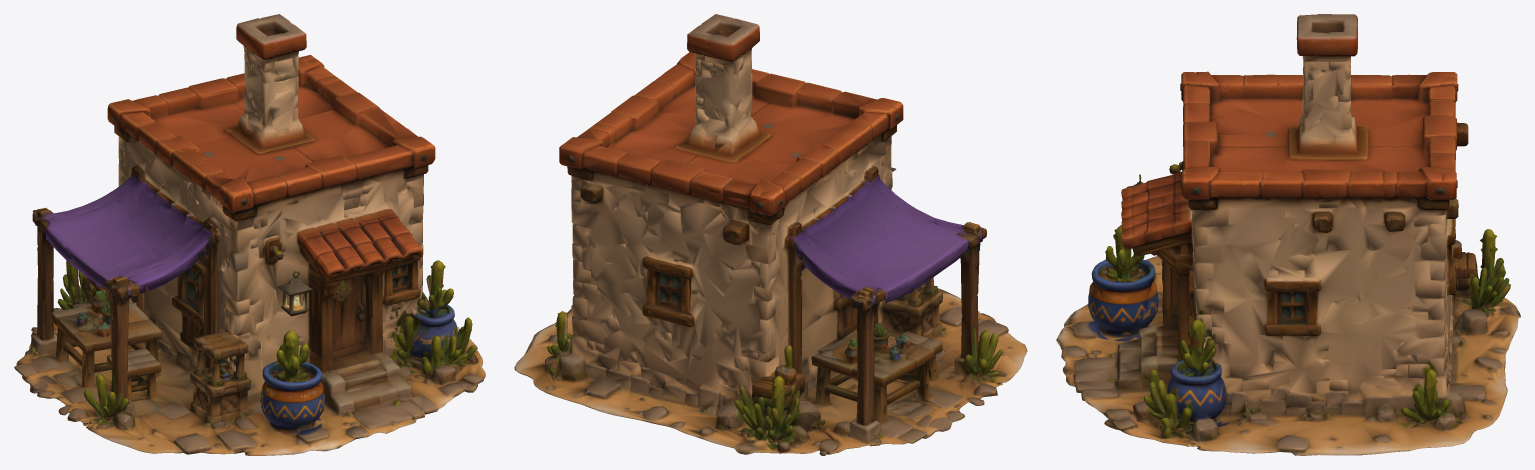
Rendered from casa_estilizada.glb.
3 views of the same model, side by side, from view 1: azimuth 30°, elevation 25°; view 2: azimuth 150°, elevation 25°; view 3: azimuth 270°, elevation 25° (orthographic). The views are drawn at different scales.
Visible parts, largest first — view 1: casa_estilizada; view 2: casa_estilizada; view 3: casa_estilizada.
Boxes of the visible parts, x1=… form: casa_estilizada: x1=14, y1=14, x2=485, y2=455; casa_estilizada: x1=514, y1=14, x2=1027, y2=455; casa_estilizada: x1=1056, y1=14, x2=1520, y2=455.
Size of what is drawn, in the model's own units: 6.41 by 5 by 6.02.
1 material, 1 textured.
